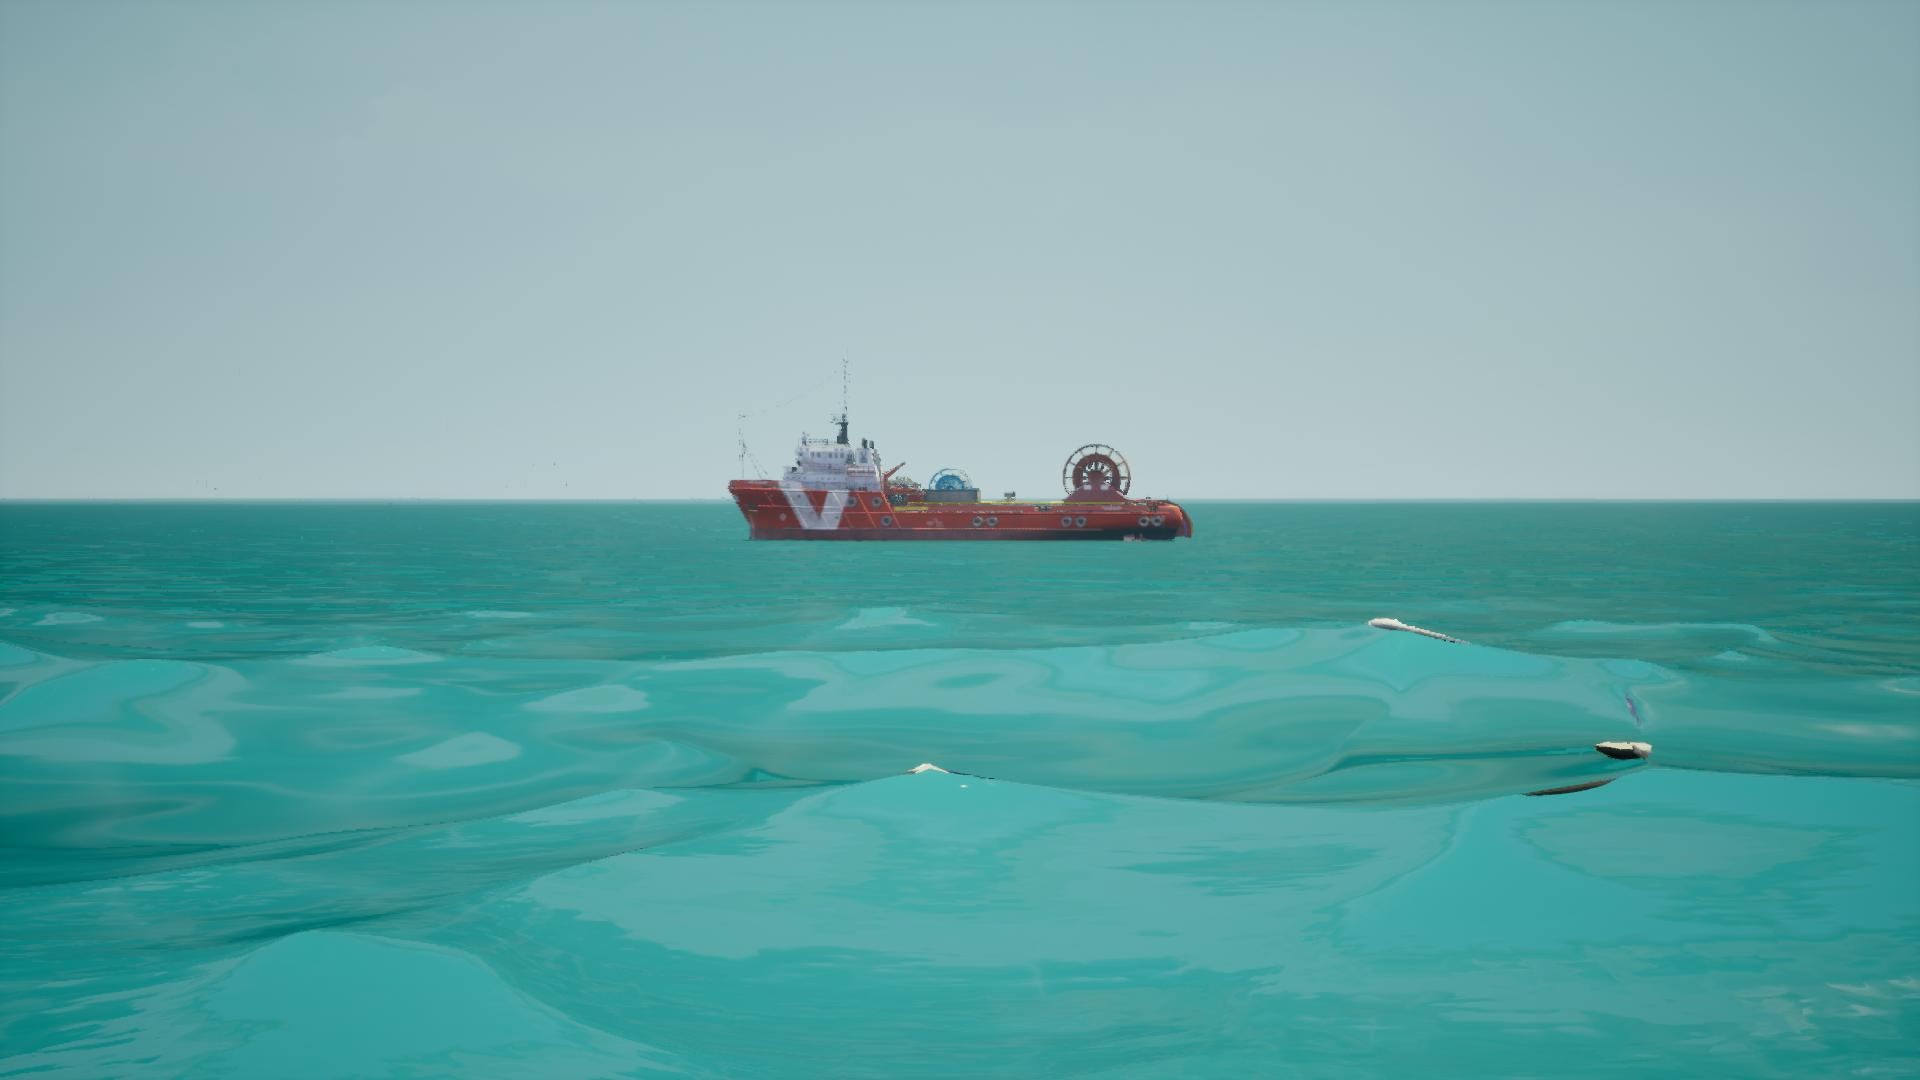Tug Boat: (724, 357, 1187, 550)
